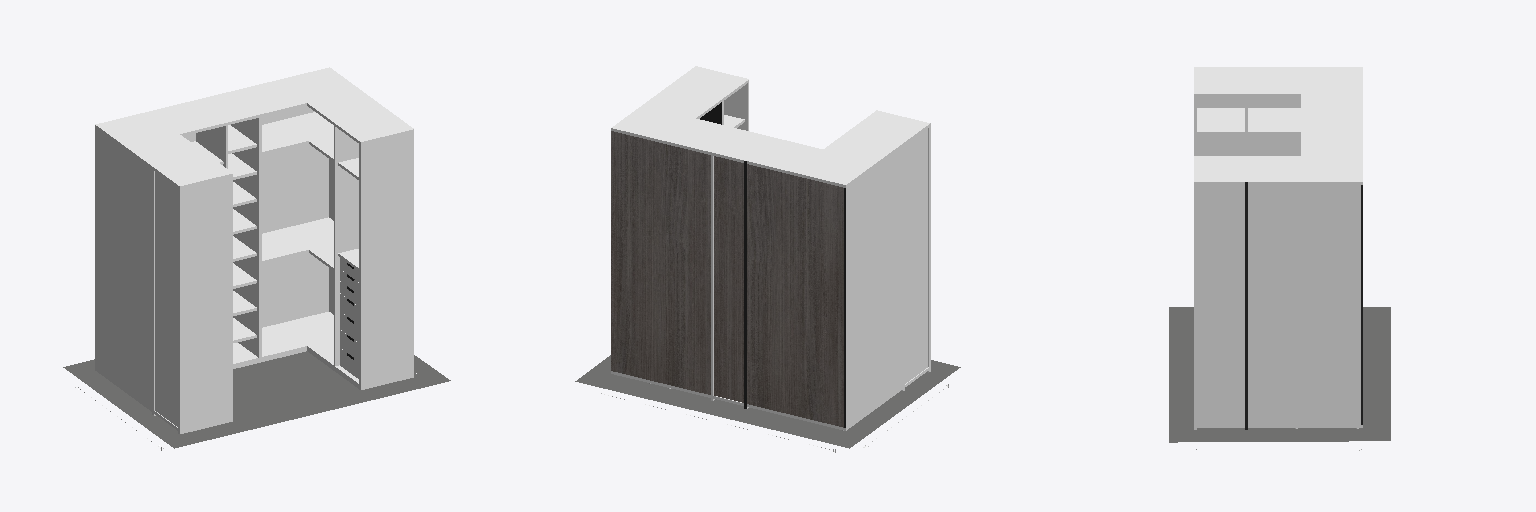
3 renders of one model, left to right at view 1: azimuth 30°, elevation 25°; view 2: azimuth 150°, elevation 25°; view 3: azimuth 270°, elevation 25°, orthographic.
Visible parts, largest first — view 1: Mesh5 B2_CON_COS_PC_DXF1 Model, Mesh25 B2_CON_COS_PC_DXF1 Model, Mesh2 B2_CON_COS_PC_DXF1 Model, Mesh70 B2_CON_COS_PC_DXF1 Model, Mesh108 B2_CON_COS_PC_DXF1 Model, Mesh6 B2_CON_COS_PC_DXF1 Model, Mesh109 B2_CON_COS_PC_DXF1 Model, Mesh63 B2_CON_COS_PC_DXF1 Model, Mesh86 B2_CON_COS_PC_DXF1 Model, Mesh77 B2_CON_COS_PC_DXF1 Model, Mesh85 B2_CON_COS_PC_DXF1 Model, Mesh76 B2_CON_COS_PC_DXF1 Model (+1 smaller); view 2: Mesh25 B2_CON_COS_PC_DXF1 Model, Mesh70 B2_CON_COS_PC_DXF1 Model, Mesh5 B2_CON_COS_PC_DXF1 Model, Mesh52 B2_CON_COS_PC_DXF1 Model, Mesh6 B2_CON_COS_PC_DXF1 Model, Mesh109 B2_CON_COS_PC_DXF1 Model, Mesh108 B2_CON_COS_PC_DXF1 Model, Mesh2 B2_CON_COS_PC_DXF1 Model; view 3: Mesh70 B2_CON_COS_PC_DXF1 Model, Mesh5 B2_CON_COS_PC_DXF1 Model, Mesh96 B2_CON_COS_PC_DXF1 Model, Mesh109 B2_CON_COS_PC_DXF1 Model, Mesh108 B2_CON_COS_PC_DXF1 Model, Mesh25 B2_CON_COS_PC_DXF1 Model, Mesh6 B2_CON_COS_PC_DXF1 Model, Mesh31 B2_CON_COS_PC_DXF1 Model, Mesh10 B2_CON_COS_PC_DXF1 Model.
Boxes of the visible parts, <box> form: Mesh5 B2_CON_COS_PC_DXF1 Model: <box>95,67,413,430</box>; Mesh25 B2_CON_COS_PC_DXF1 Model: <box>95,128,195,408</box>; Mesh2 B2_CON_COS_PC_DXF1 Model: <box>178,172,232,433</box>; Mesh70 B2_CON_COS_PC_DXF1 Model: <box>262,106,333,327</box>; Mesh108 B2_CON_COS_PC_DXF1 Model: <box>91,351,421,435</box>; Mesh6 B2_CON_COS_PC_DXF1 Model: <box>155,172,177,426</box>; Mesh109 B2_CON_COS_PC_DXF1 Model: <box>63,355,450,448</box>; Mesh63 B2_CON_COS_PC_DXF1 Model: <box>262,312,333,364</box>; Mesh86 B2_CON_COS_PC_DXF1 Model: <box>281,217,333,270</box>; Mesh77 B2_CON_COS_PC_DXF1 Model: <box>281,112,333,161</box>; Mesh85 B2_CON_COS_PC_DXF1 Model: <box>262,229,308,263</box>; Mesh76 B2_CON_COS_PC_DXF1 Model: <box>262,120,308,154</box>; Mesh25 B2_CON_COS_PC_DXF1 Model: <box>747,147,902,427</box>; Mesh70 B2_CON_COS_PC_DXF1 Model: <box>611,131,710,394</box>; Mesh5 B2_CON_COS_PC_DXF1 Model: <box>611,66,928,408</box>; Mesh52 B2_CON_COS_PC_DXF1 Model: <box>714,156,743,402</box>; Mesh6 B2_CON_COS_PC_DXF1 Model: <box>905,128,927,383</box>; Mesh109 B2_CON_COS_PC_DXF1 Model: <box>575,355,960,448</box>; Mesh108 B2_CON_COS_PC_DXF1 Model: <box>604,370,932,435</box>; Mesh2 B2_CON_COS_PC_DXF1 Model: <box>876,110,930,372</box>; Mesh70 B2_CON_COS_PC_DXF1 Model: <box>1248,185,1362,424</box>; Mesh5 B2_CON_COS_PC_DXF1 Model: <box>1194,67,1362,429</box>; Mesh96 B2_CON_COS_PC_DXF1 Model: <box>1197,185,1244,424</box>; Mesh109 B2_CON_COS_PC_DXF1 Model: <box>1169,307,1390,442</box>; Mesh108 B2_CON_COS_PC_DXF1 Model: <box>1190,316,1369,433</box>; Mesh25 B2_CON_COS_PC_DXF1 Model: <box>1248,97,1300,155</box>; Mesh6 B2_CON_COS_PC_DXF1 Model: <box>1197,97,1244,155</box>; Mesh31 B2_CON_COS_PC_DXF1 Model: <box>1248,108,1300,134</box>; Mesh10 B2_CON_COS_PC_DXF1 Model: <box>1197,108,1244,134</box>.
Size of the model in its own units: 122 by 109 by 84.02.
5 materials, 1 textured.